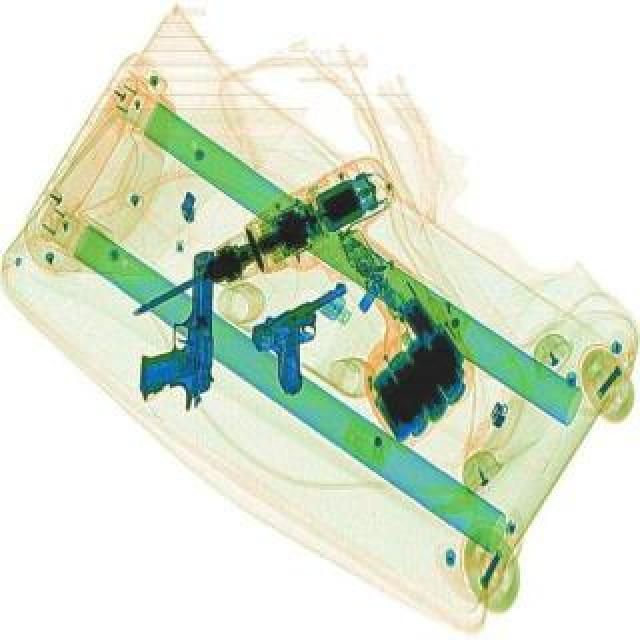gun: (242, 284, 386, 404), (138, 254, 216, 414)
